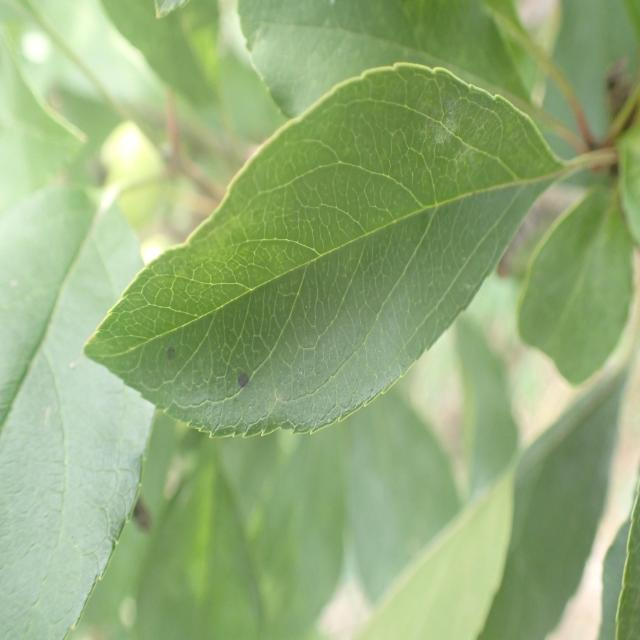Powdery_mildew: (90, 68, 546, 432)
scab: (152, 330, 187, 386), (225, 352, 260, 405)
